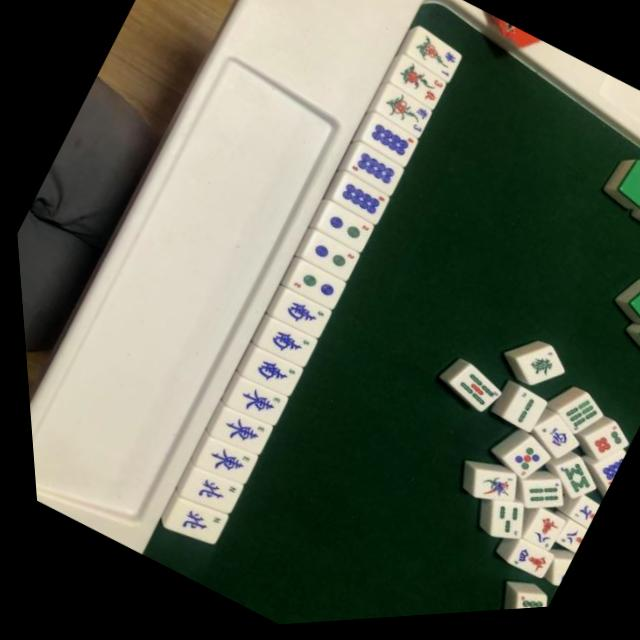bf1: (401, 34, 464, 89)
bf3: (373, 90, 432, 142)
bs3: (384, 60, 447, 115)
hwe: (209, 409, 266, 460), (194, 439, 250, 490), (225, 380, 281, 430)
hwn: (182, 469, 234, 516), (166, 503, 217, 548)
hws: (270, 294, 324, 342), (256, 324, 309, 371), (241, 352, 294, 398)
sd2: (298, 236, 355, 285), (283, 265, 338, 313), (315, 208, 368, 256)
sd8: (329, 178, 386, 228), (344, 150, 400, 199), (361, 121, 415, 169)
